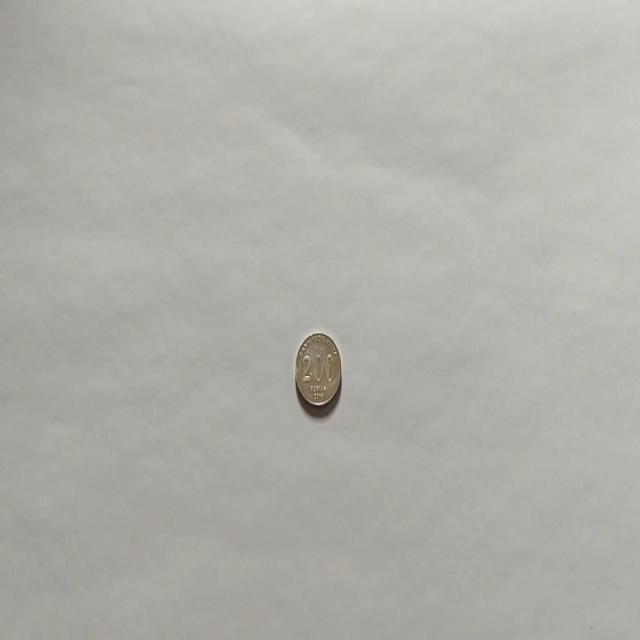dua ratus rupiah: (294, 330, 342, 410)
